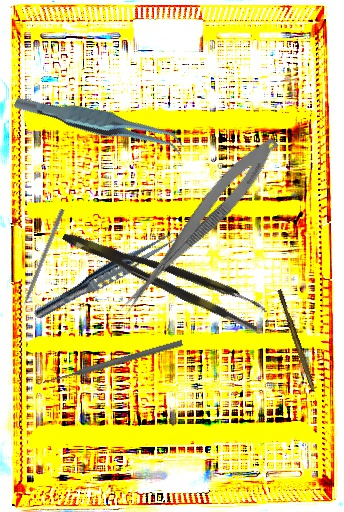Micro Scissor: (114, 129, 285, 324)
Pusher: (41, 338, 184, 387), (15, 208, 65, 320)
Scalpel Handle: (275, 288, 318, 391)
Tissue Forceps: (60, 213, 270, 335), (13, 63, 187, 184), (31, 224, 181, 327)
